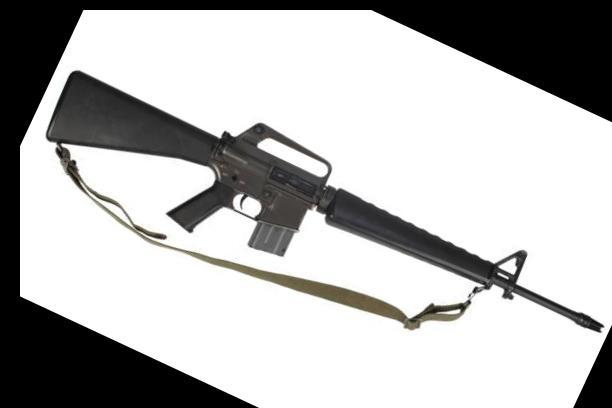larga: (46, 70, 605, 334)
